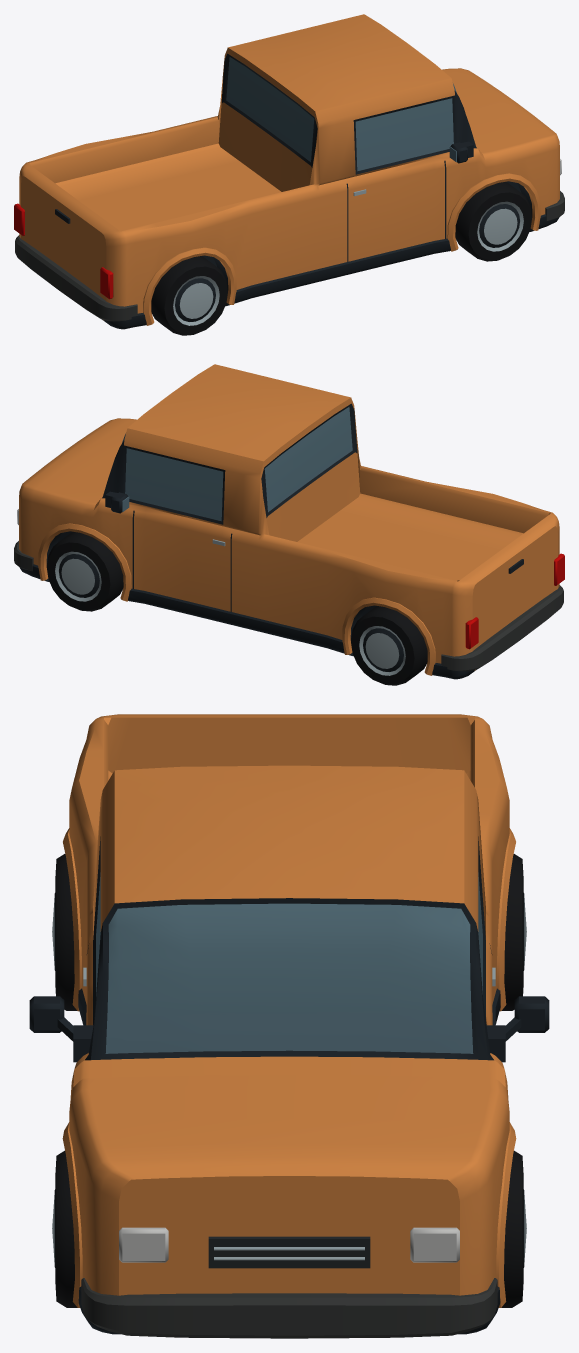
File: cute-car-pickup.glb
3 renders of one model, top to bottom at view 1: azimuth 30°, elevation 25°; view 2: azimuth 150°, elevation 25°; view 3: azimuth 270°, elevation 25°, orthographic. The views are drawn at different scales.
Parts seen in each view (by area): view 1: Cute-car-pickupBody; view 2: Cute-car-pickupBody; view 3: Cute-car-pickupBody.
Boxes of the visible parts, x1,y1,x2,y2 form: Cute-car-pickupBody: [14, 14, 564, 335]; Cute-car-pickupBody: [14, 364, 564, 685]; Cute-car-pickupBody: [29, 714, 549, 1338].
Bounding box in the file's own units: 4.12 × 1.58 × 1.98.
Materials: 1 (1 with a texture image).
